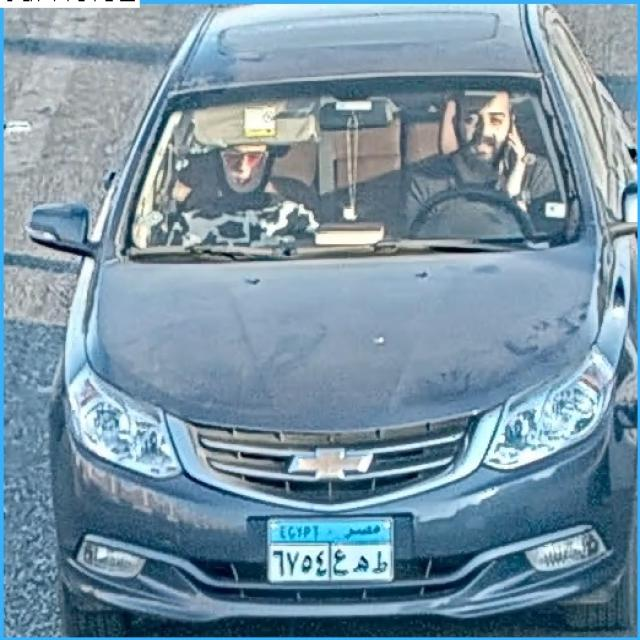windshield: (112, 80, 575, 250)
